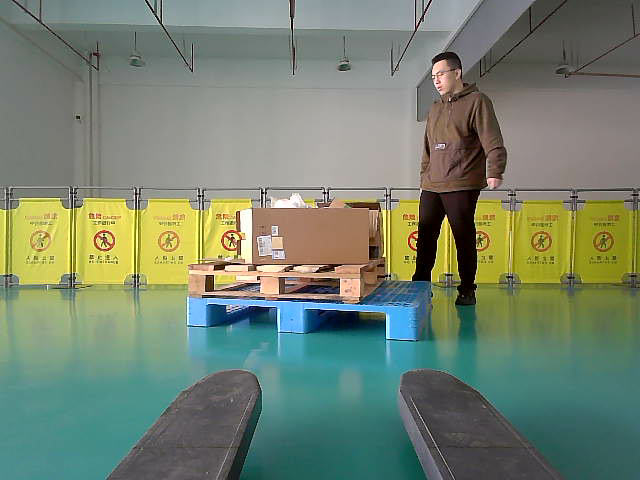block: (383, 306, 417, 342), (277, 303, 307, 334), (185, 300, 207, 331)
front: (186, 297, 422, 344)
hole pallet: (304, 309, 389, 340), (206, 302, 277, 336)
